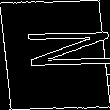N_E: (2, 34, 108, 76)
